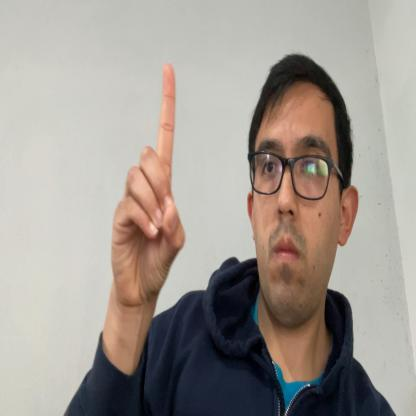D: (110, 62, 185, 314)
